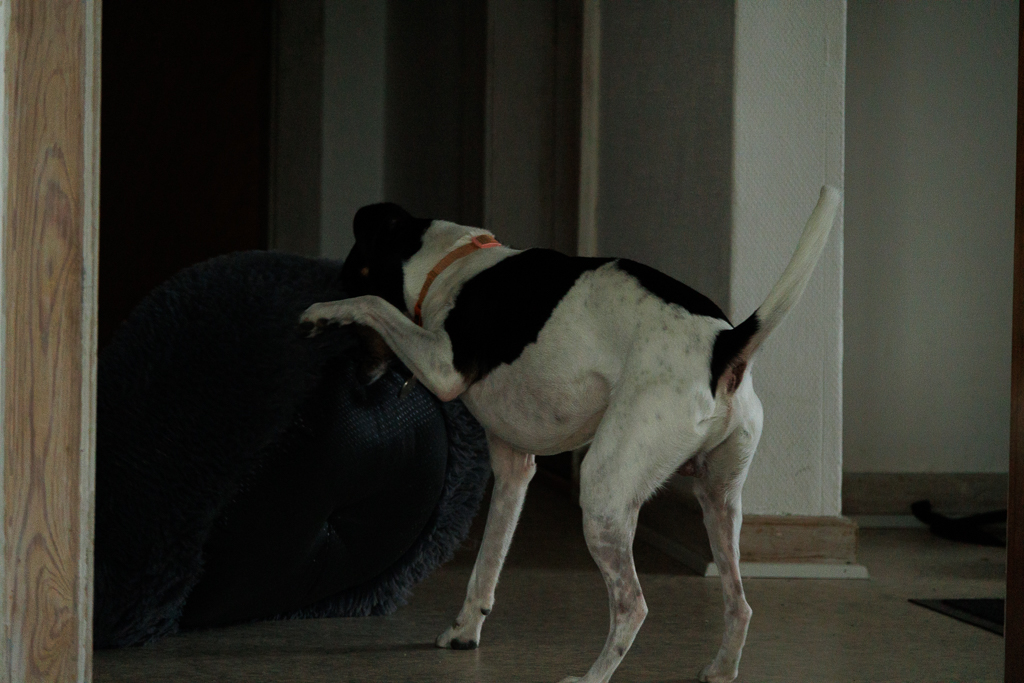Dog: (292, 180, 844, 683)
